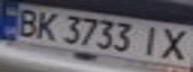3: (112, 19, 139, 55), (57, 12, 84, 46), (93, 18, 118, 52)
7: (78, 16, 100, 48)
B: (9, 7, 42, 38)
I: (136, 23, 166, 57)
K: (30, 9, 63, 42)
X: (154, 25, 193, 63)
